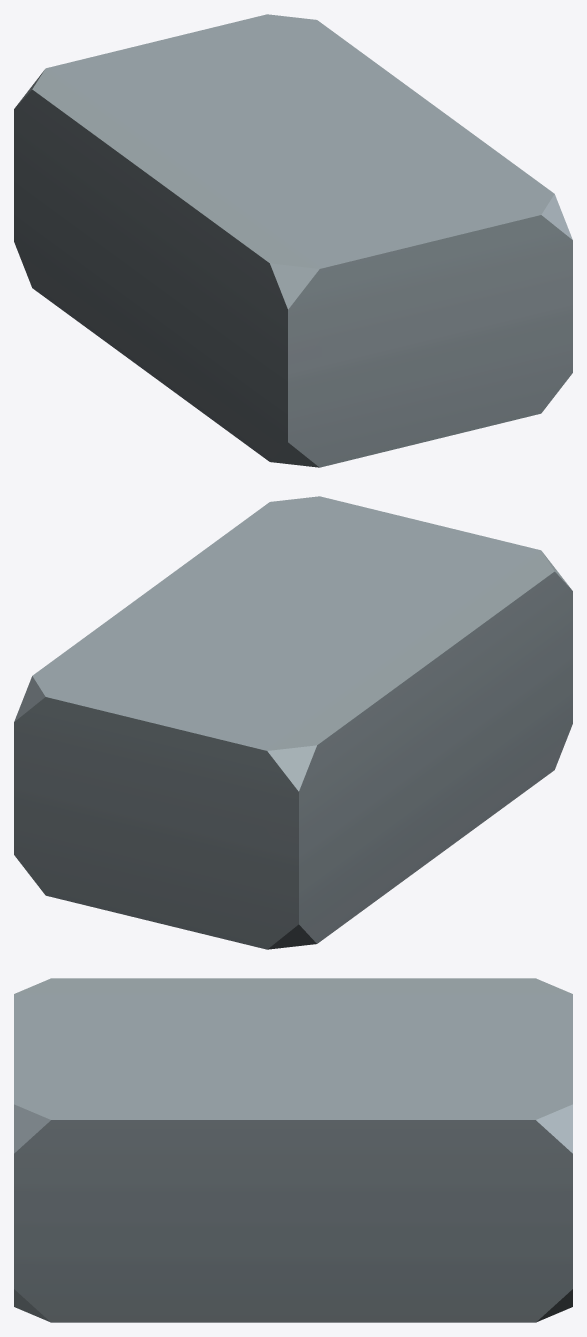
Rendered from tegelsten.glb.
3 views of the same model, one above another, from view 1: azimuth 30°, elevation 25°; view 2: azimuth 150°, elevation 25°; view 3: azimuth 270°, elevation 25° (orthographic).
Visible parts, largest first — view 1: Stone_Brick; view 2: Stone_Brick; view 3: Stone_Brick.
Part boxes in pixels (box(x1,y1,x2,y2)): Stone_Brick: box(14, 14, 572, 467); Stone_Brick: box(14, 496, 572, 949); Stone_Brick: box(14, 978, 572, 1322).
Bounding box in the file's own units: 0.45 × 0.3 × 0.75.
1 material, 1 textured.
